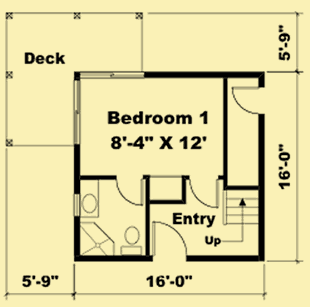door: (151, 221, 188, 256), (188, 175, 221, 209), (232, 86, 263, 117), (116, 177, 144, 207)
large_sink: (118, 225, 143, 255)
small_sink: (79, 178, 103, 218)
stairs: (221, 190, 259, 230)
window: (80, 69, 146, 81), (73, 78, 83, 144), (72, 192, 80, 218)
